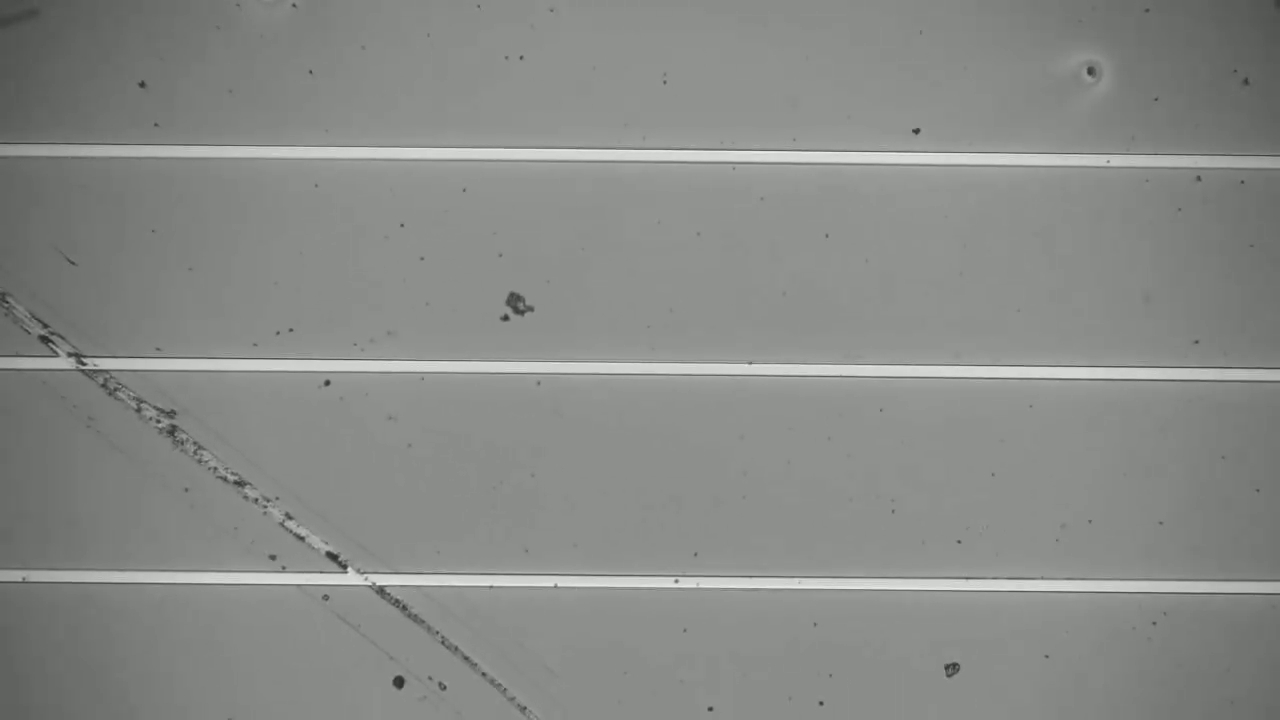scratch: (9, 304, 560, 720)
